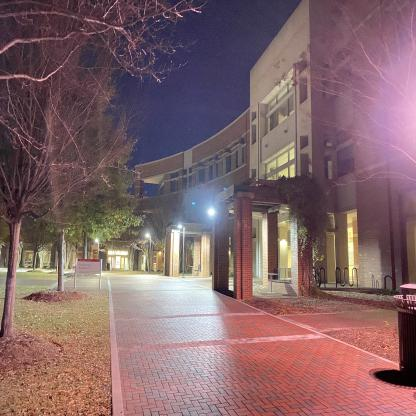eb2: (139, 10, 415, 285)
